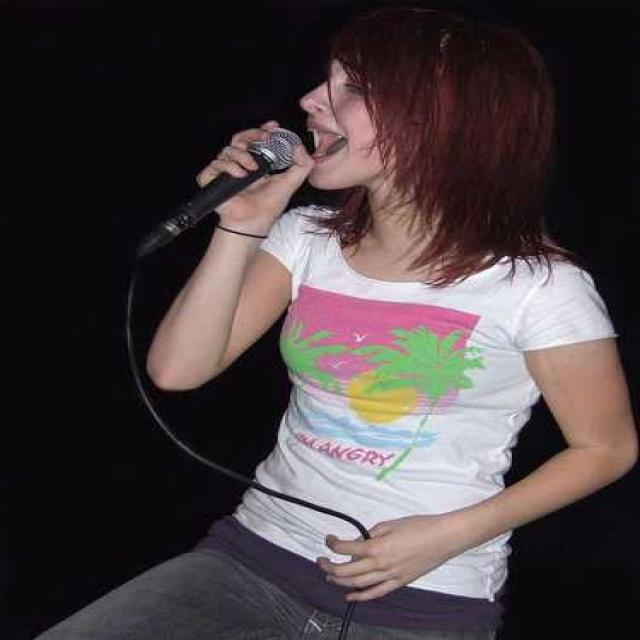microphone: (144, 126, 306, 256)
